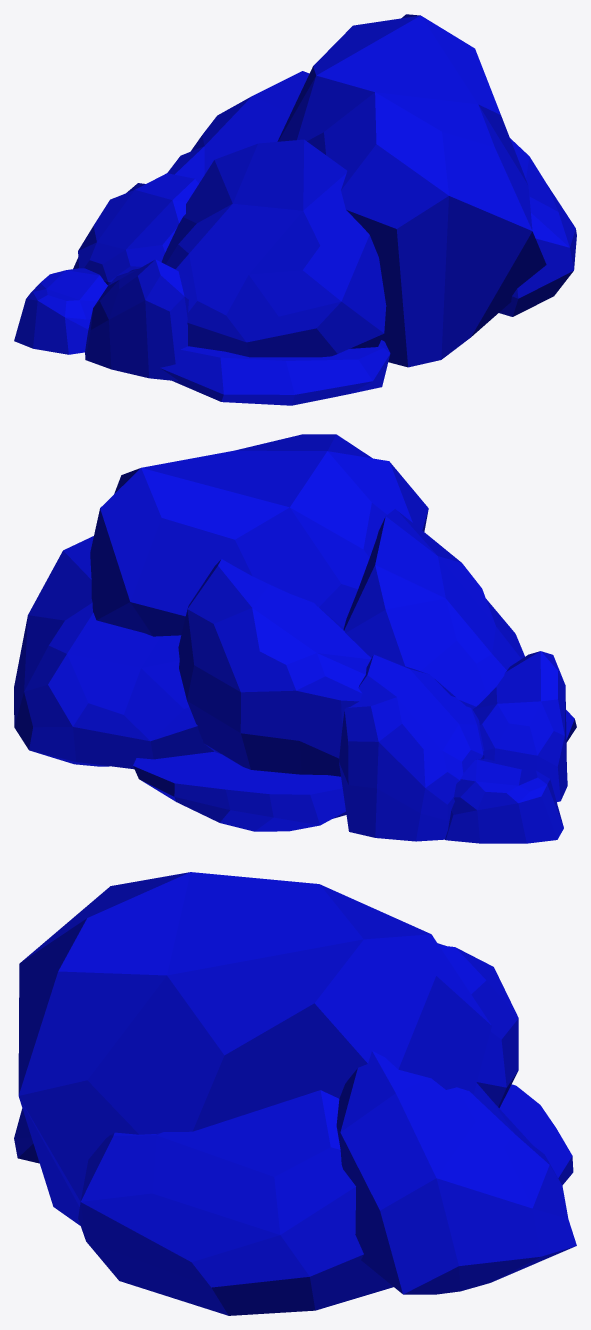
The model's file is SM_Mountain1.fbx.
3 views of the same model, one above another, from view 1: azimuth 30°, elevation 25°; view 2: azimuth 150°, elevation 25°; view 3: azimuth 270°, elevation 25° (orthographic). The views are drawn at different scales.
Parts seen in each view (by area): view 1: SM_Mountain1; view 2: SM_Mountain1; view 3: SM_Mountain1.
Boxes of the visible parts, bbox=[...] form: SM_Mountain1: bbox=[14, 14, 576, 405]; SM_Mountain1: bbox=[14, 434, 576, 843]; SM_Mountain1: bbox=[14, 872, 576, 1315].
Size of the model in its own units: 2768 by 1297 by 1977.
